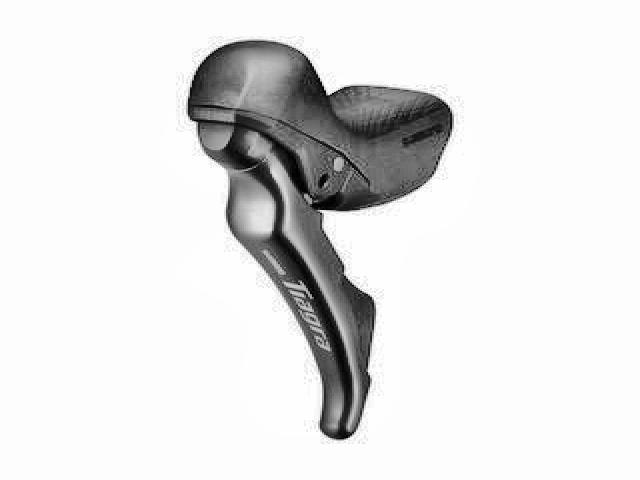sti_shifter: (186, 35, 454, 442)
